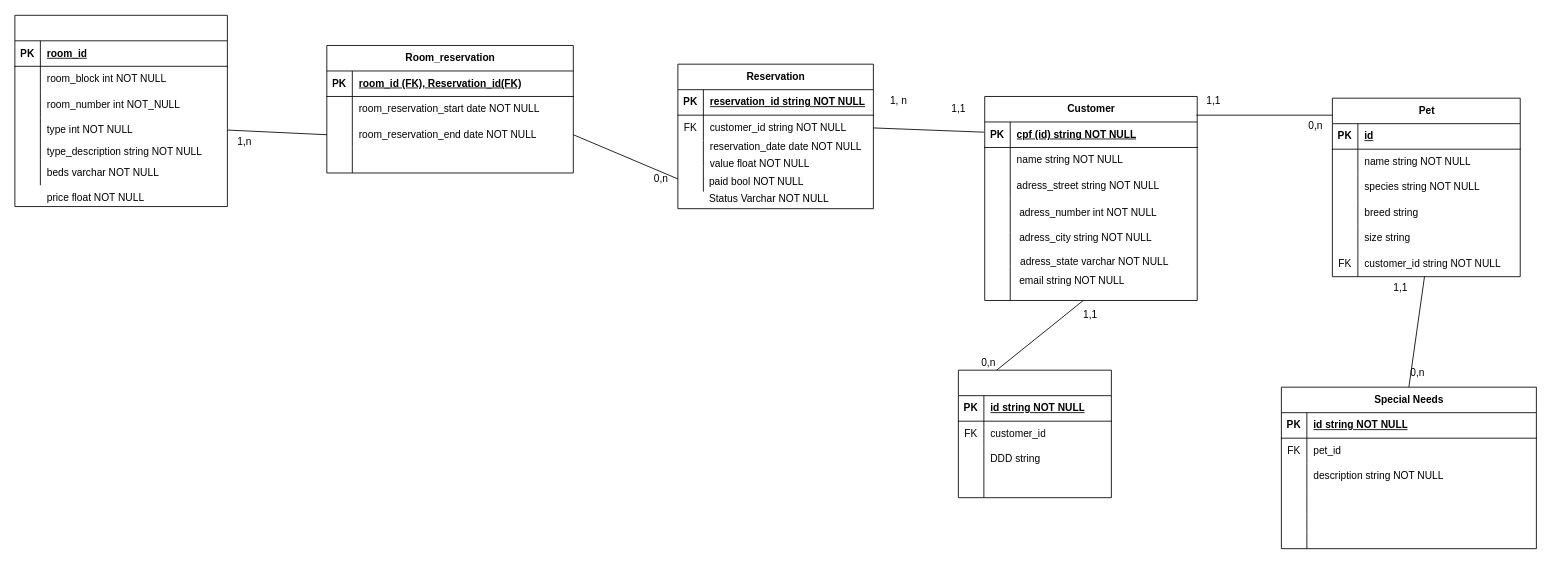
This 1551x564 diagram has some shape labels left out. Here are the shapes that lost their labels. From the top down, the box of each, then its label:
(14, 14, 227, 207): Rooms
(958, 369, 1111, 498): Phone
